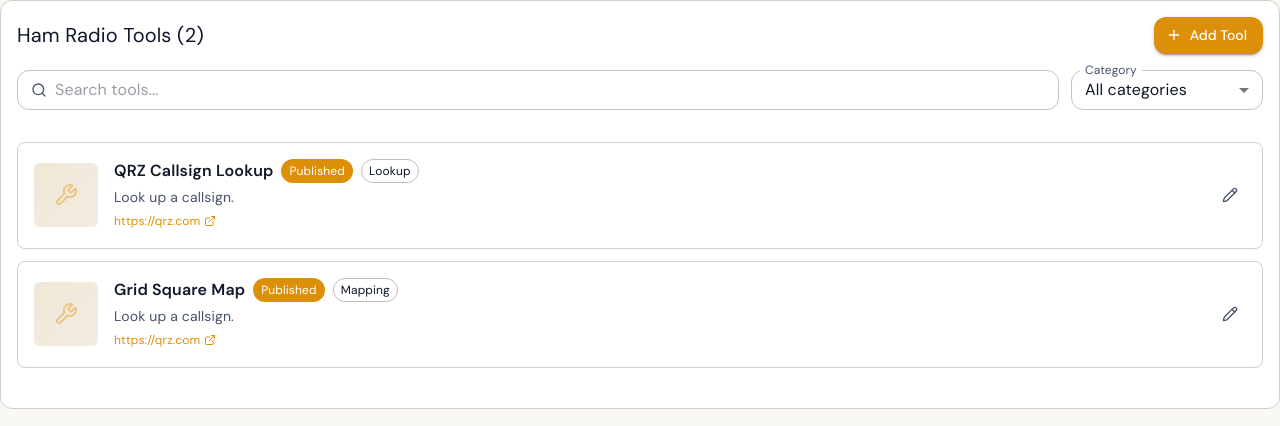
Scenario: AdminHamRadioTools › list › narrows by category alongside the search term
What coordinates should you click on to do the following:
click the dropdown named "Category"
I would click on:
 (1136, 90)
Its box is [1085,79,1187,100].
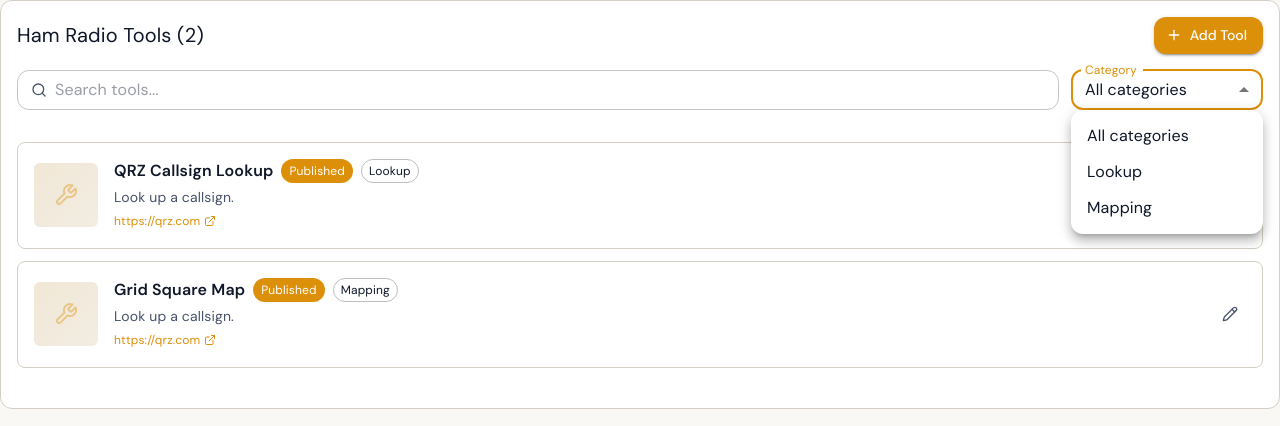
What coordinates should you click on to do the following:
click the option "Mapping"
I would click on:
 (1120, 208)
Its box is [1087,197,1152,218].
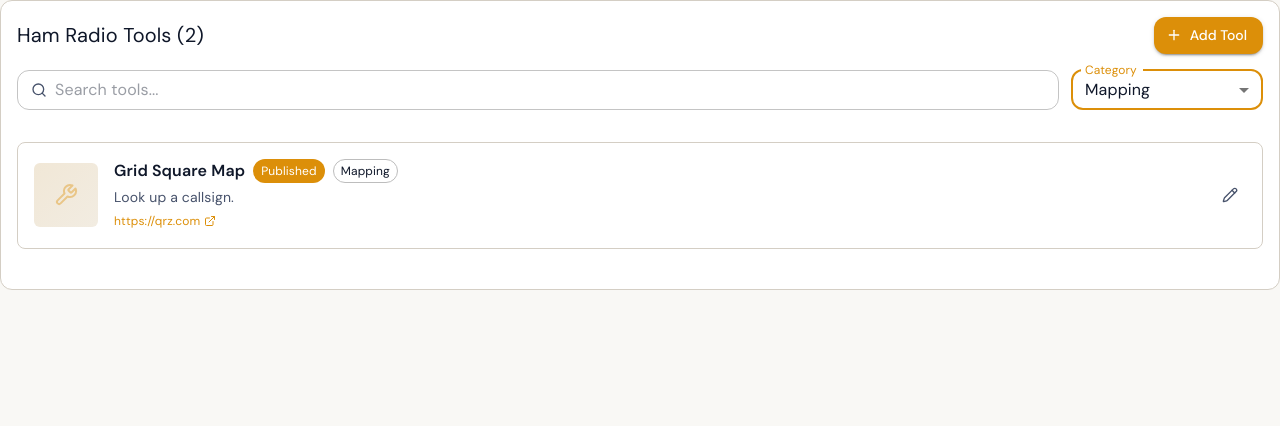
Expected: the heading "Grid Square Map" is shown, [114,158,245,182]
Expected: the heading "QRZ Callsign Lookup" is gone
